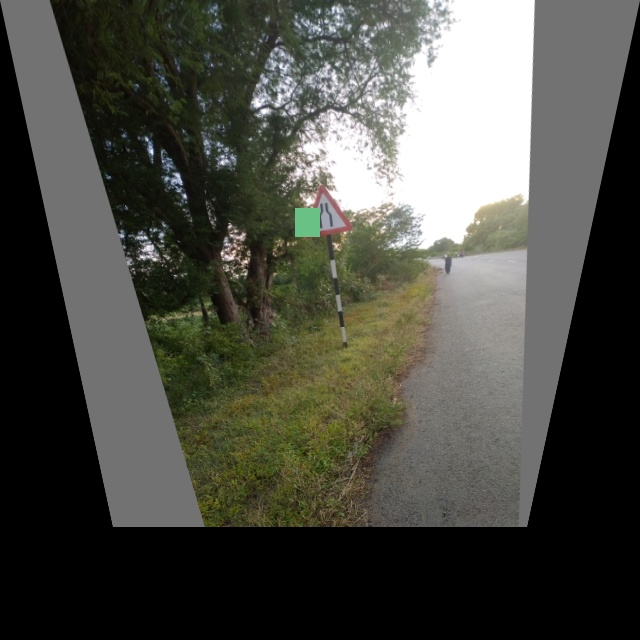Narrow_Road_Ahead: (295, 178, 351, 238)
